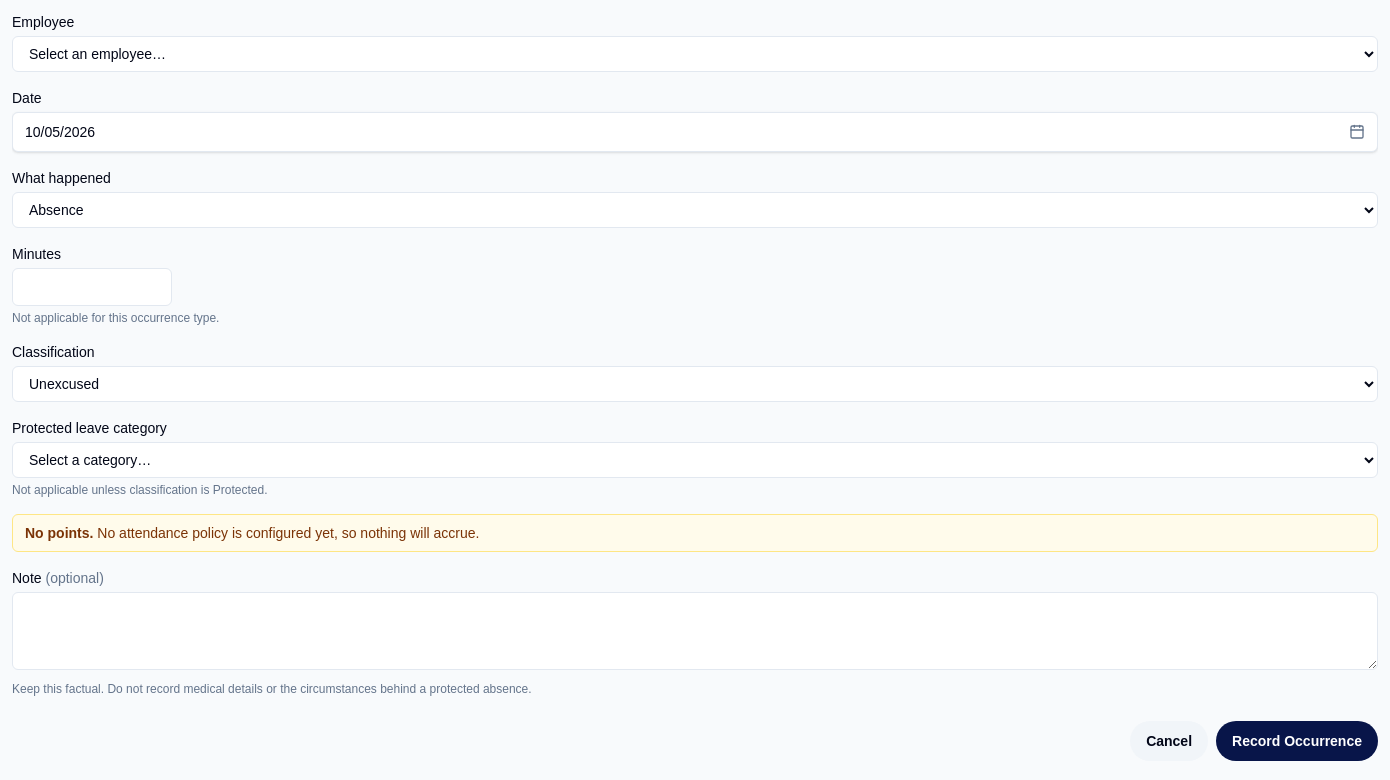
Test case: MhdOccurrenceForm › requires a category for a protected absence
The image size is (1390, 780).
Select "Imani Brooks" in the dropdown labelled "Employee" at (695, 54), box top-left (12, 36), bottom-right (1378, 72)
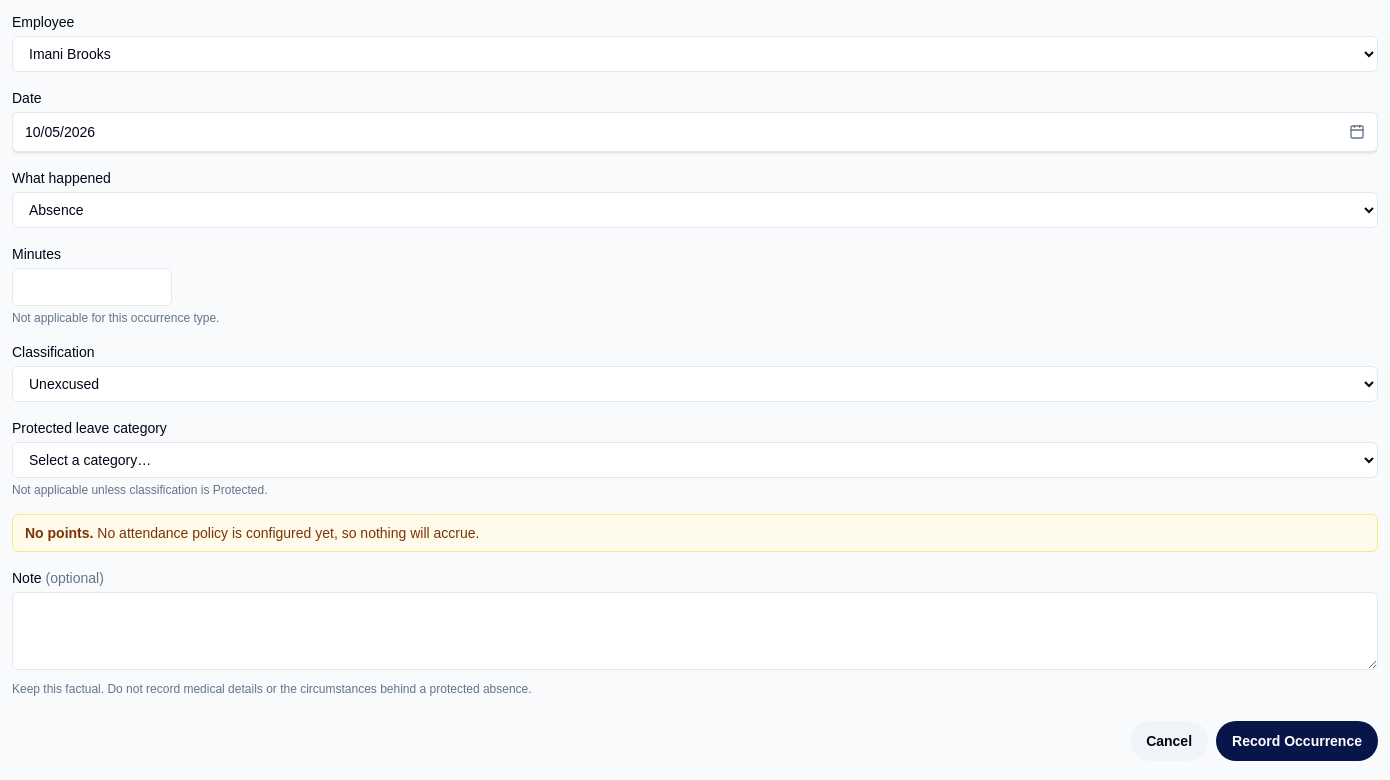
Select "Protected leave" in the dropdown labelled "Classification" at (695, 384), box top-left (12, 366), bottom-right (1378, 402)
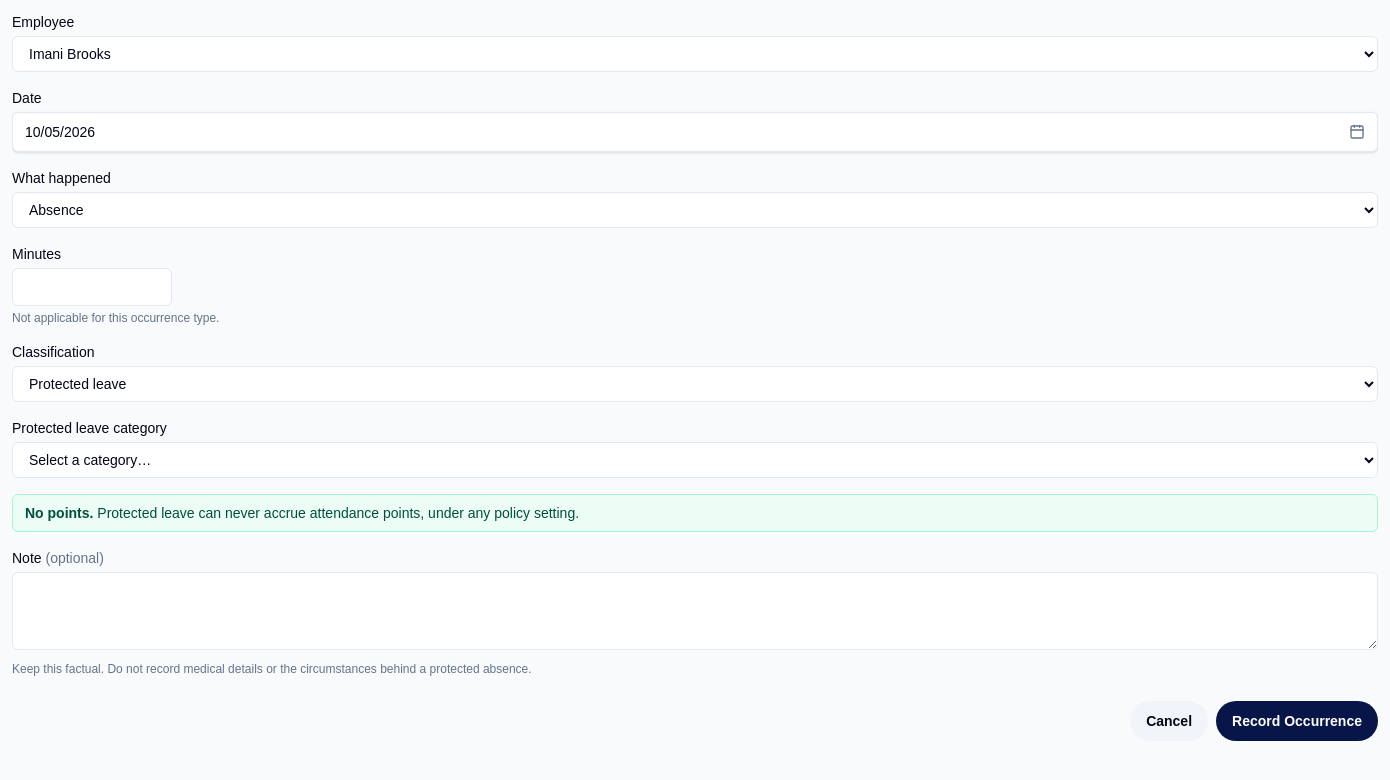
Click the button "Record occurrence".
click(1297, 721)  # box top-left (1216, 701), bottom-right (1378, 741)
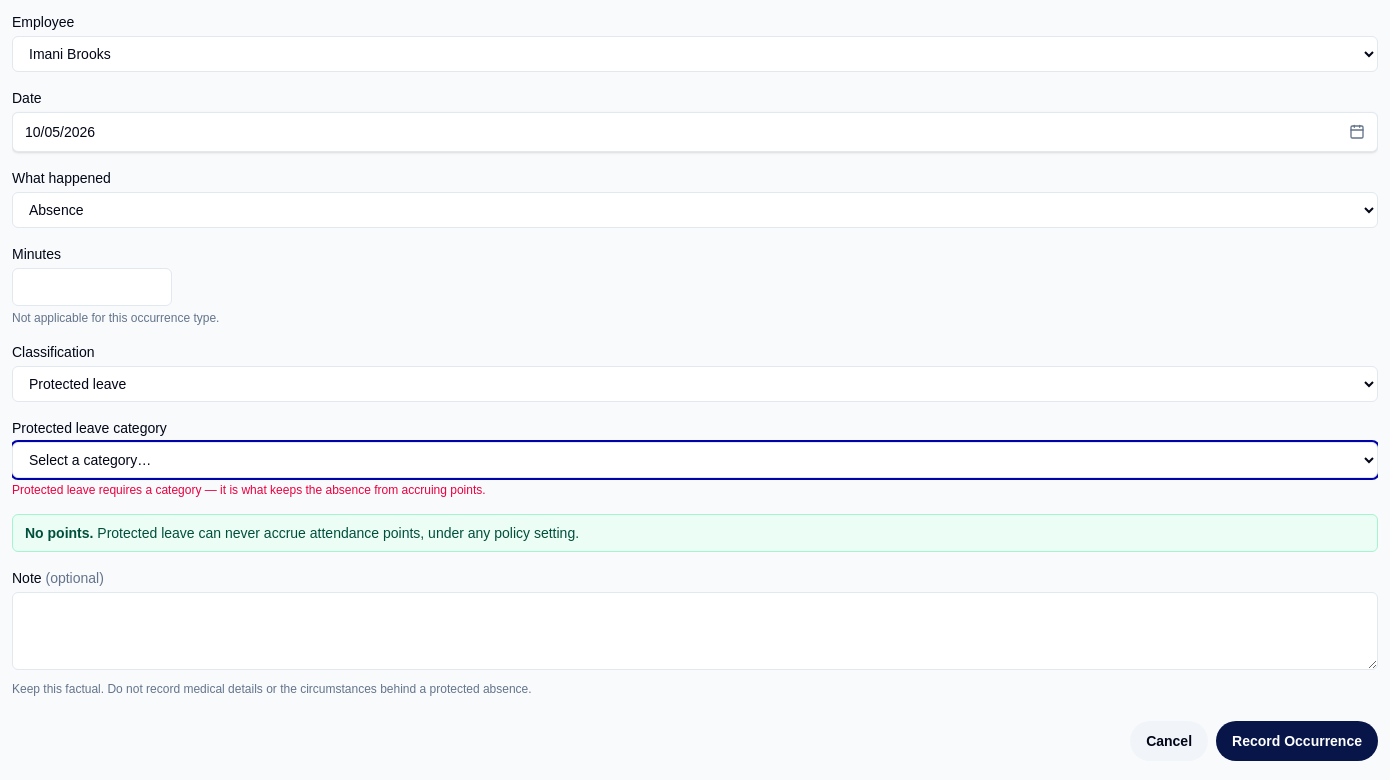
expect the text "requires a category" is shown: met, box top-left (12, 483), bottom-right (486, 497)
